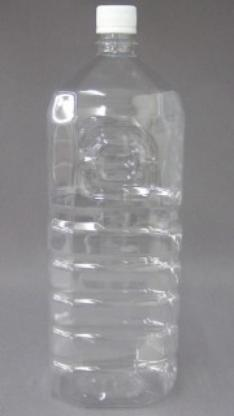Plastic Bottle: (44, 4, 184, 408)
